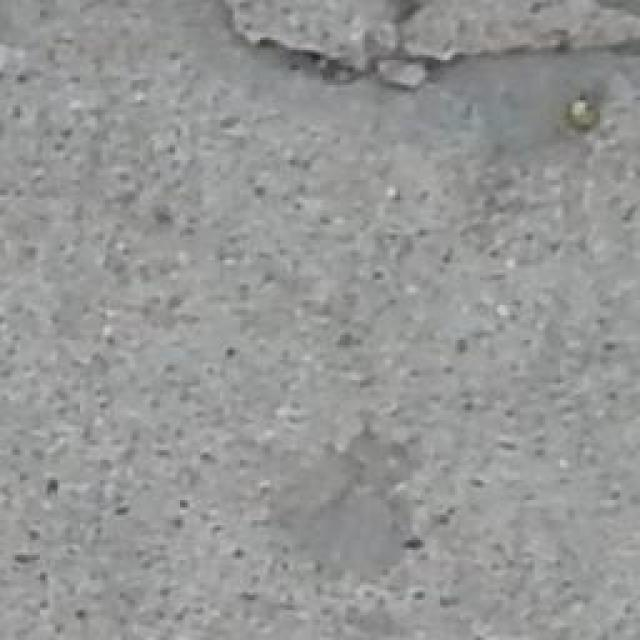concrete-crack: (218, 0, 640, 100)
